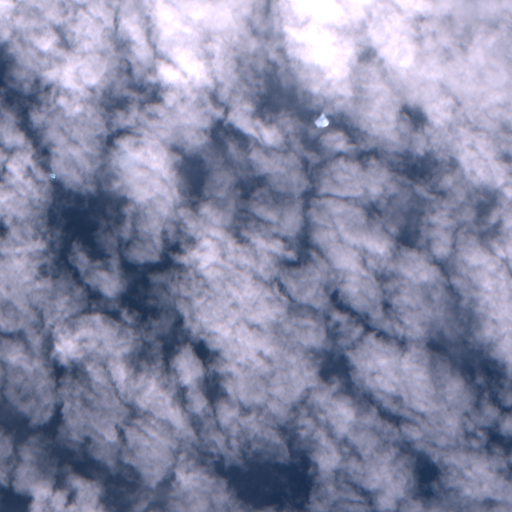Iceberg: (315, 114, 328, 127), (50, 174, 54, 177)
